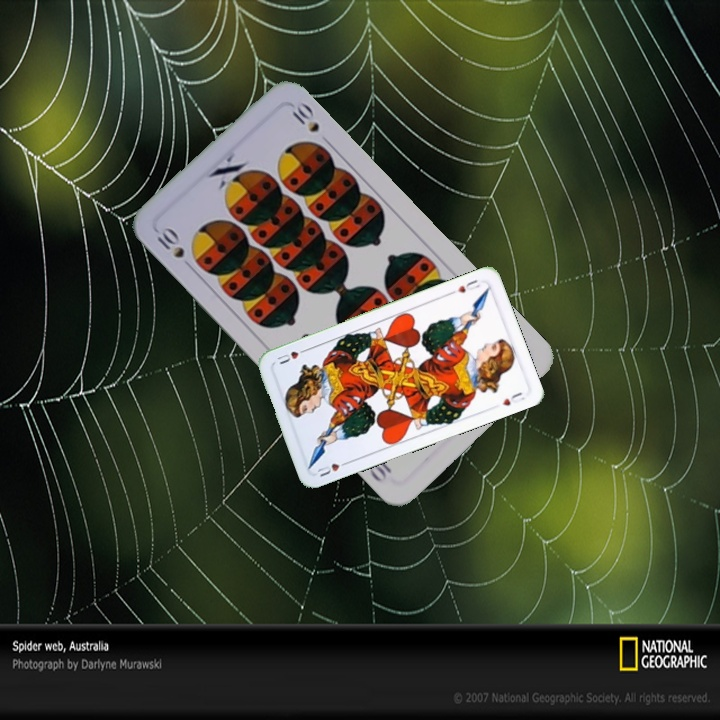HU: (313, 457, 352, 479), (446, 275, 482, 297)
S10: (153, 223, 197, 273)
